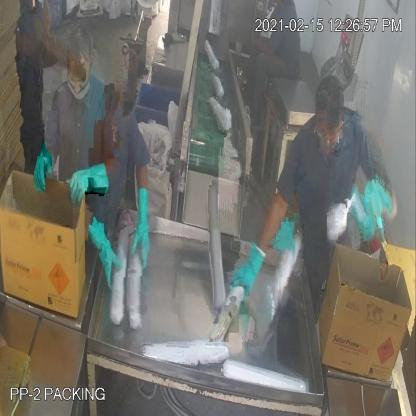glove: (90, 215, 126, 302), (229, 236, 270, 303), (66, 158, 115, 204), (131, 179, 150, 284), (26, 143, 62, 198)
no_glove: (244, 34, 276, 60)
